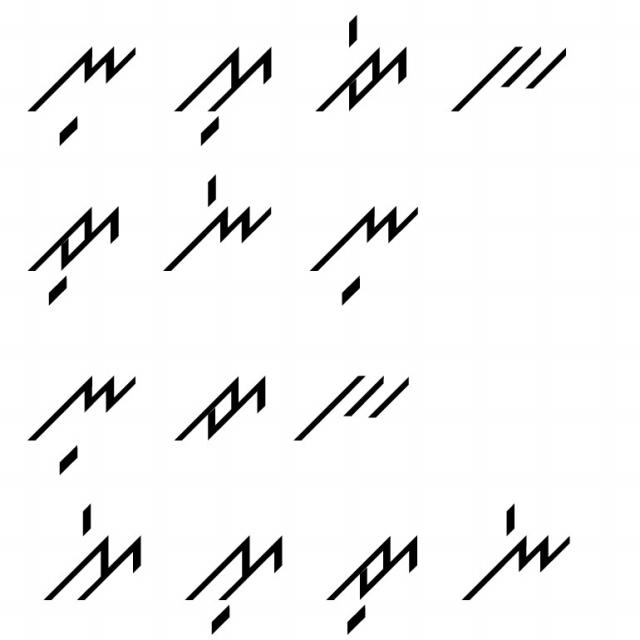ja: (168, 365, 273, 450)
je: (312, 8, 416, 123)
ju: (19, 188, 129, 306), (325, 528, 421, 636)
nye: (458, 490, 575, 604), (162, 168, 281, 277)
nyu: (306, 193, 435, 309), (19, 35, 142, 149), (24, 365, 141, 479)
se: (42, 498, 150, 612)
su: (185, 520, 289, 638), (174, 38, 276, 150)
